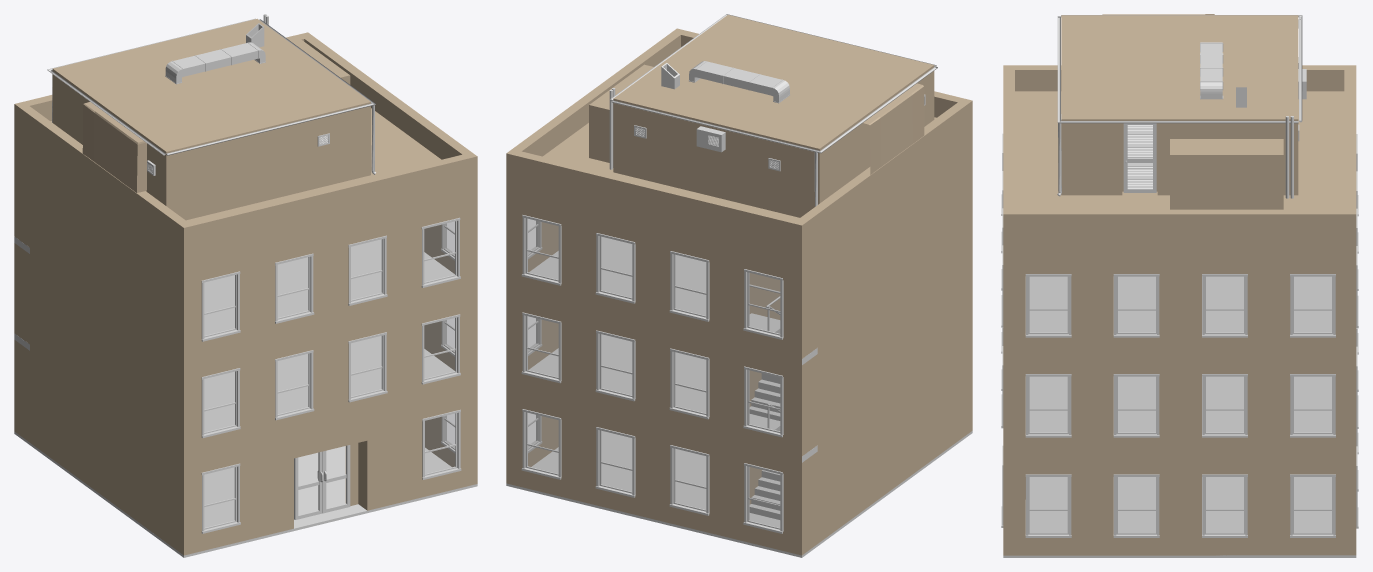
The model's file is small office building.fbx.
3 renders of one model, left to right at view 1: azimuth 30°, elevation 25°; view 2: azimuth 150°, elevation 25°; view 3: azimuth 270°, elevation 25°, orthographic. The views are drawn at different scales.
Parts seen in each view (by area): view 1: Cube.044, Plane, Cube.012, Cube.033, Cube, Cube.035, Cube.057, Cylinder.003, Cube.041, Cube.040; view 2: Cube.044, Plane, Cube.012, Cube.033, Cube, Cube.035, Cube.057, Cylinder.003, Cube.056; view 3: Cube.044, Plane, Cube.012, Cube.033, Cube, Cube.035, Cube.047, Cylinder.003, Cube.057, Cylinder.001.
Boxes of the visible parts, box(x1,y1,x2,y2) form: Cube.044: box(14, 18, 477, 555); Plane: box(204, 221, 455, 527); Cube.012: box(14, 236, 454, 431); Cube.033: box(201, 217, 461, 533); Cube: box(14, 431, 477, 557); Cube.035: box(204, 221, 457, 529); Cube.057: box(165, 23, 265, 84); Cylinder.003: box(47, 18, 375, 174); Cube.041: box(294, 451, 322, 519); Cube.040: box(322, 445, 350, 513); Cube.044: box(506, 15, 972, 555); Plane: box(528, 219, 779, 527); Cube.012: box(529, 237, 817, 519); Cube.033: box(521, 215, 783, 533); Cube: box(506, 431, 972, 557); Cube.035: box(525, 218, 780, 529); Cube.057: box(661, 61, 789, 103); Cylinder.003: box(610, 14, 937, 206); Cube.056: box(696, 126, 725, 152); Cube.044: box(1003, 14, 1356, 555); Plane: box(1030, 277, 1331, 532); Cube.012: box(1025, 276, 1331, 432); Cube.033: box(1001, 133, 1358, 537); Cube: box(1003, 477, 1356, 557); Cube.035: box(1028, 276, 1333, 534); Cube.047: box(1123, 123, 1156, 192); Cylinder.003: box(1057, 15, 1302, 196); Cube.057: box(1200, 42, 1246, 107); Cylinder.001: box(1285, 116, 1293, 198).
Size of the model in its own units: 201 by 264 by 202.
